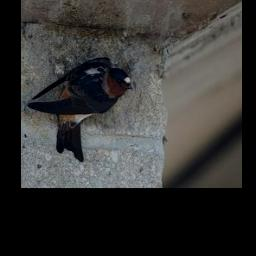Swallow: (27, 54, 135, 161)
